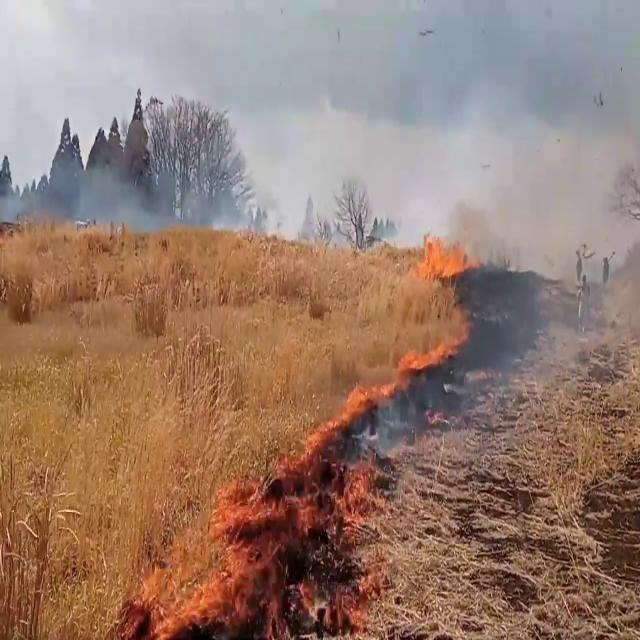Fire: (398, 324, 470, 384), (412, 230, 482, 286)
Smoke: (409, 41, 640, 398)
